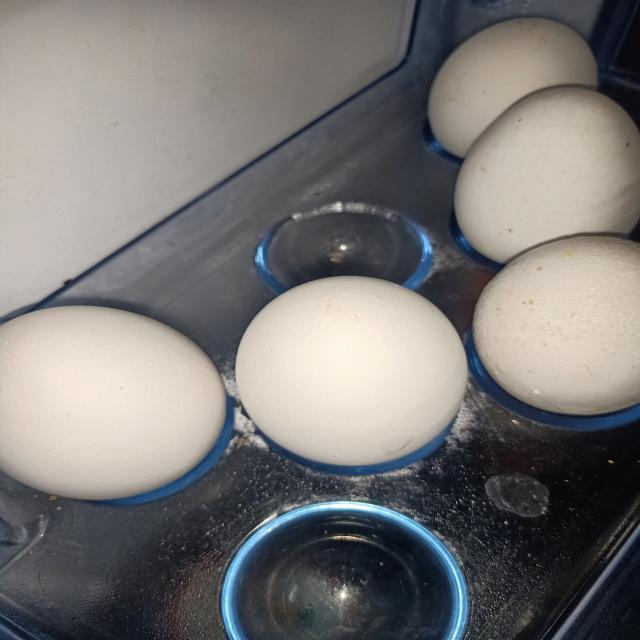Egg: (235, 276, 468, 467), (0, 306, 225, 501), (454, 86, 640, 263), (473, 236, 640, 416), (428, 17, 598, 157)
